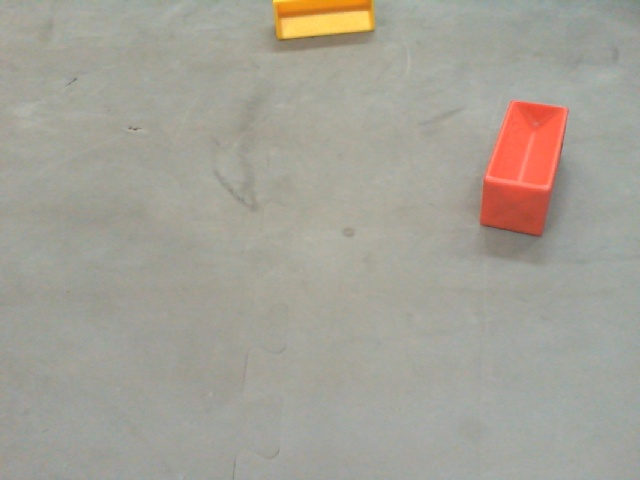RedSample: (478, 97, 571, 236)
YellowSample: (268, 1, 375, 42)
